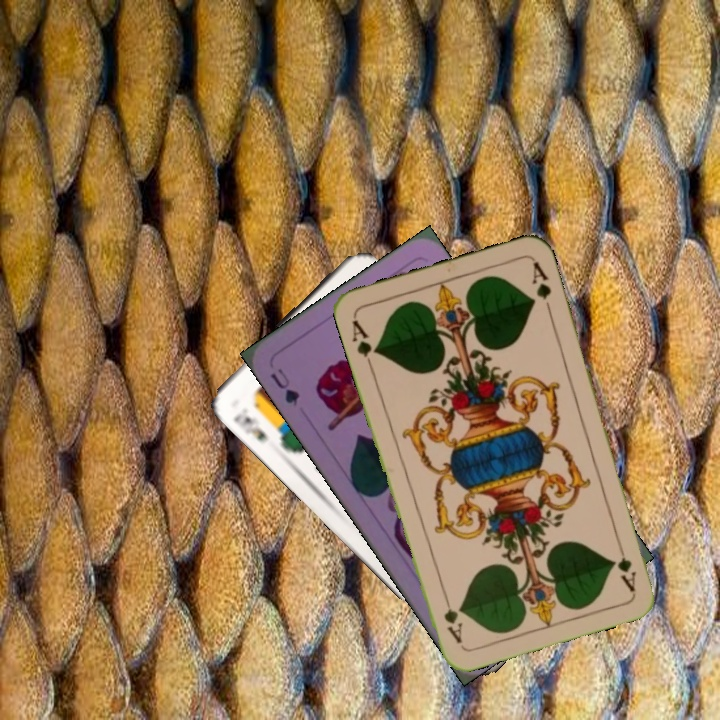EK: (229, 403, 271, 444)
GA: (348, 315, 381, 371), (611, 536, 639, 594)
GU: (266, 364, 303, 408)
